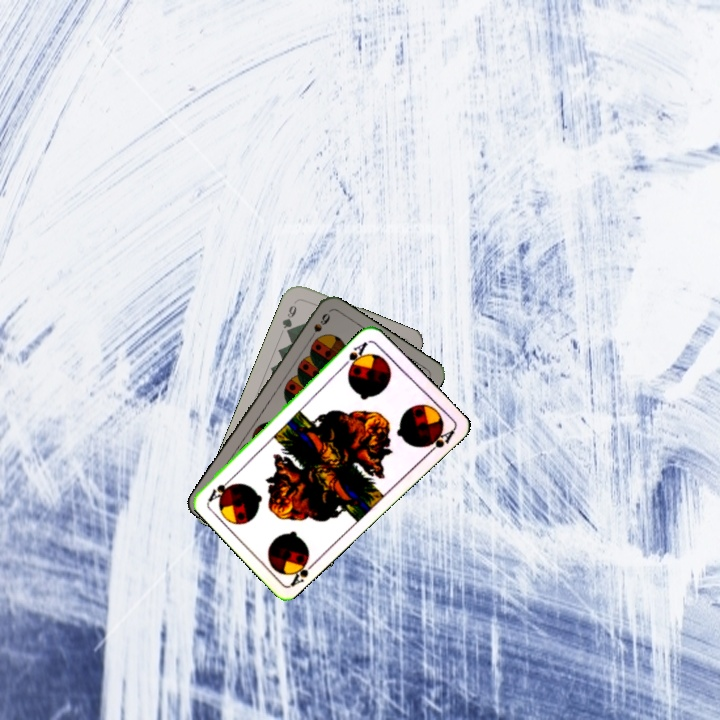G9: (278, 297, 299, 337)
S9: (304, 309, 333, 345)
SA: (283, 550, 320, 589), (339, 337, 372, 373)
